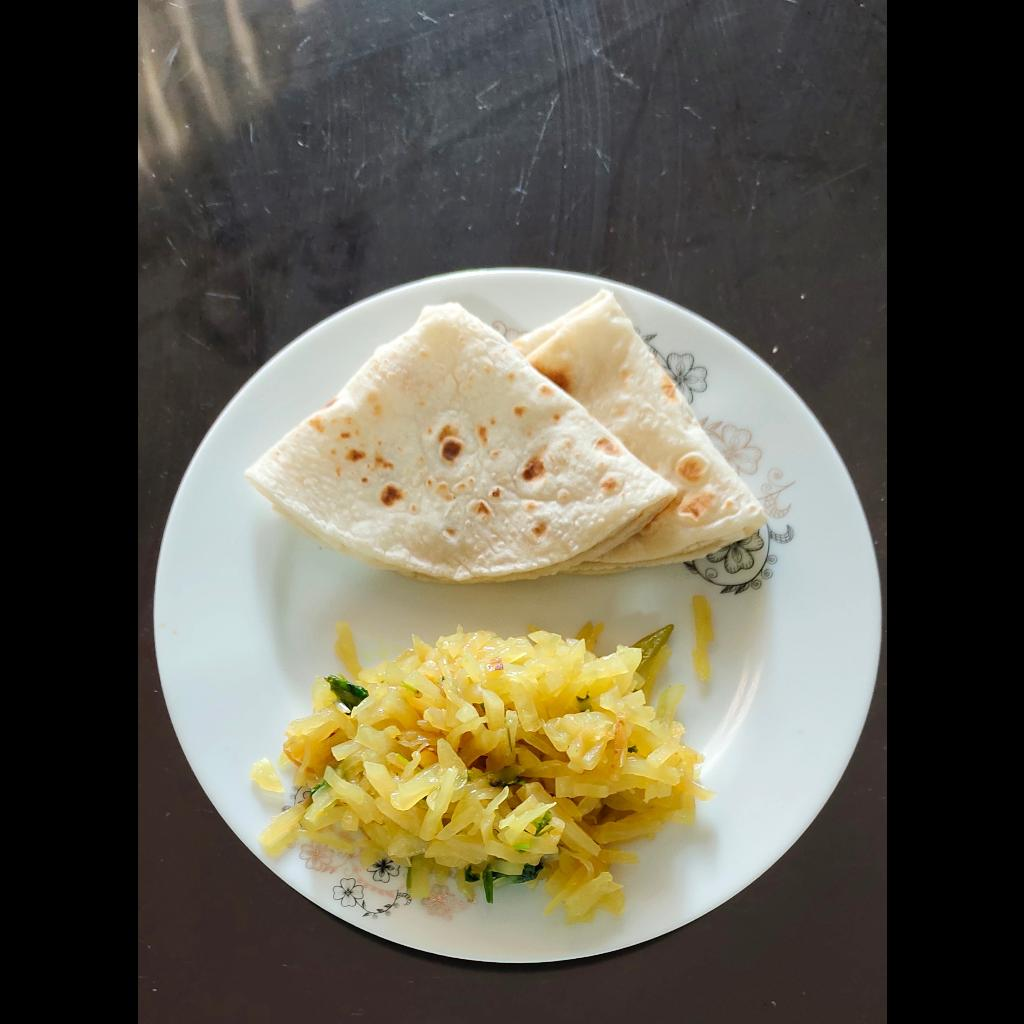ruti: (244, 289, 763, 581)
vaji: (253, 614, 716, 925)
